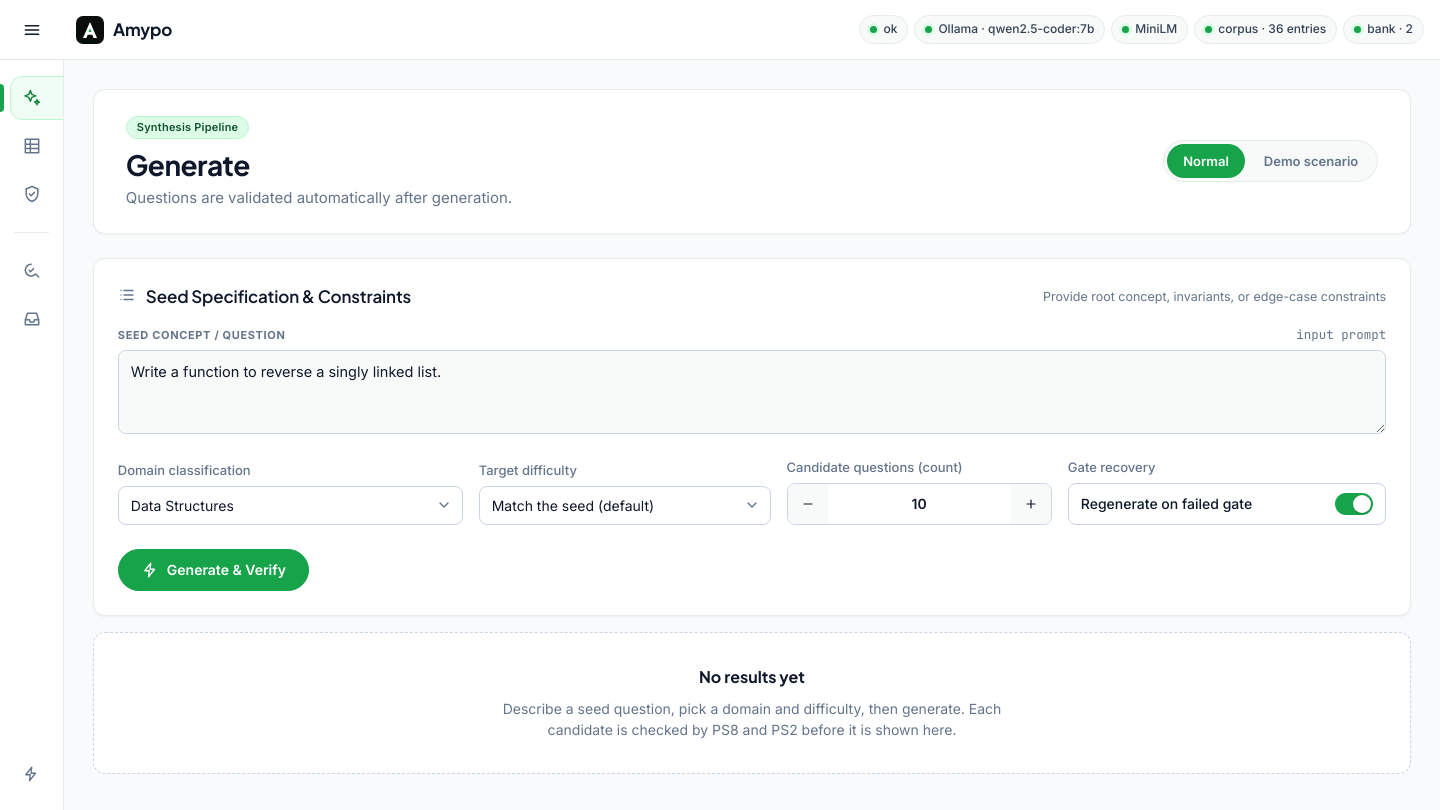
it: generation is application-level › shows the backend error when a job cannot start
This screenshot has width=1440, height=810.
Click the button with test id "generate-btn".
click(213, 570)  # box left=118, top=549, right=309, bottom=591
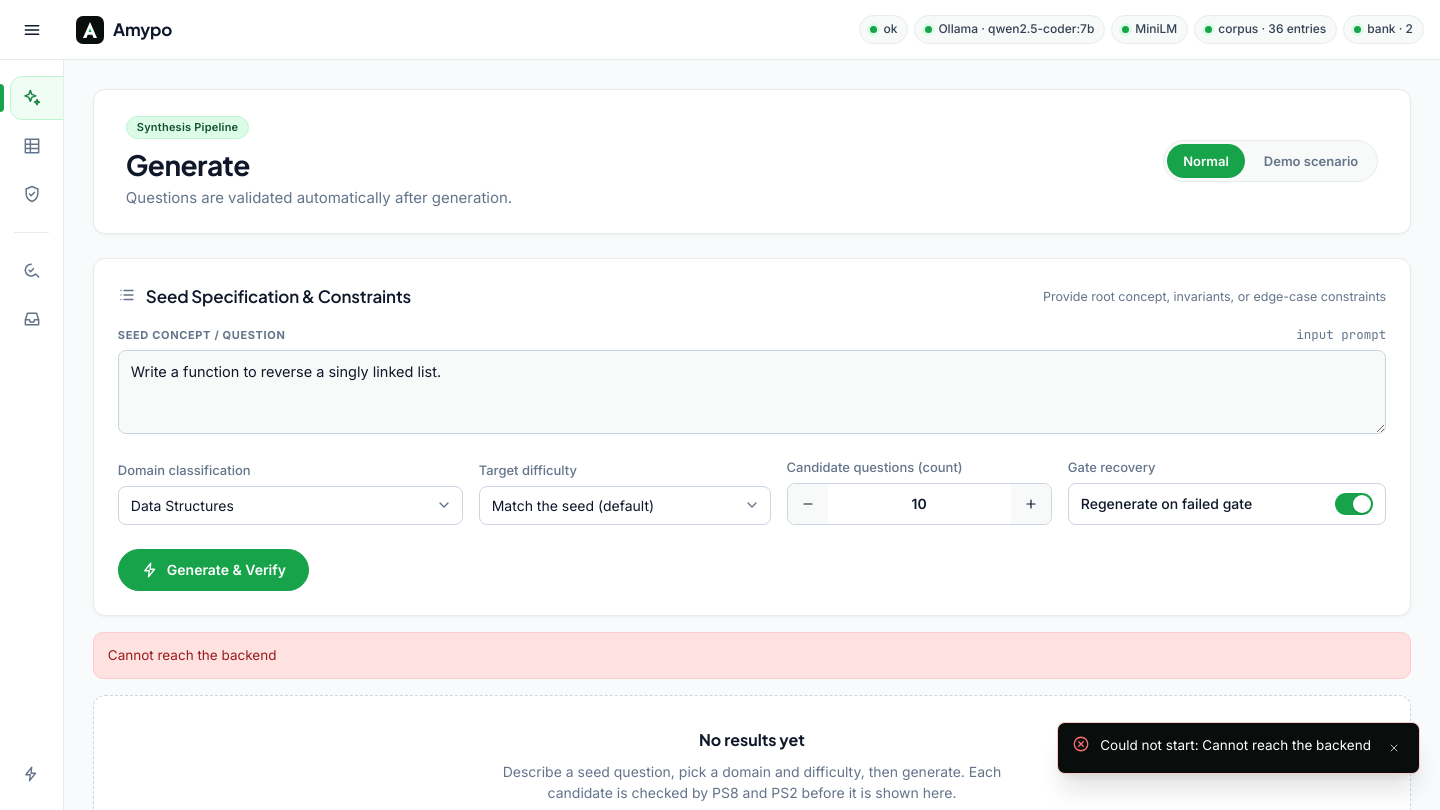
Now the message "Cannot reach the backend" is shown, box left=93, top=632, right=1411, bottom=679
